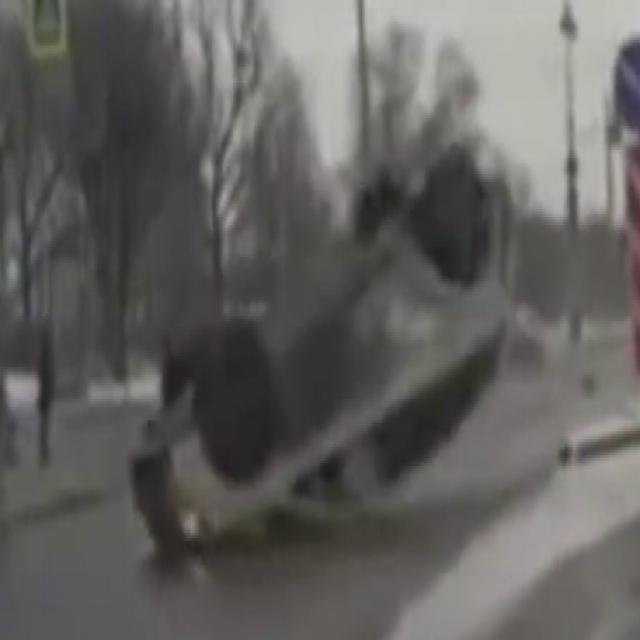accident: (132, 150, 510, 558)
